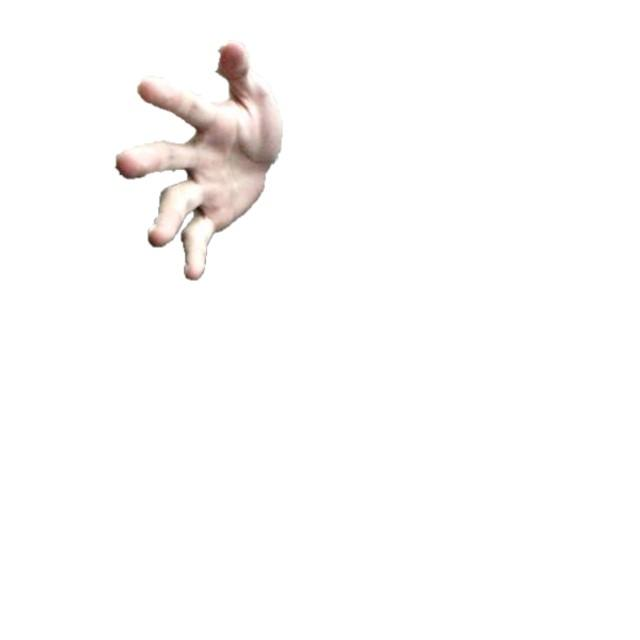pa-: (113, 41, 285, 283)
